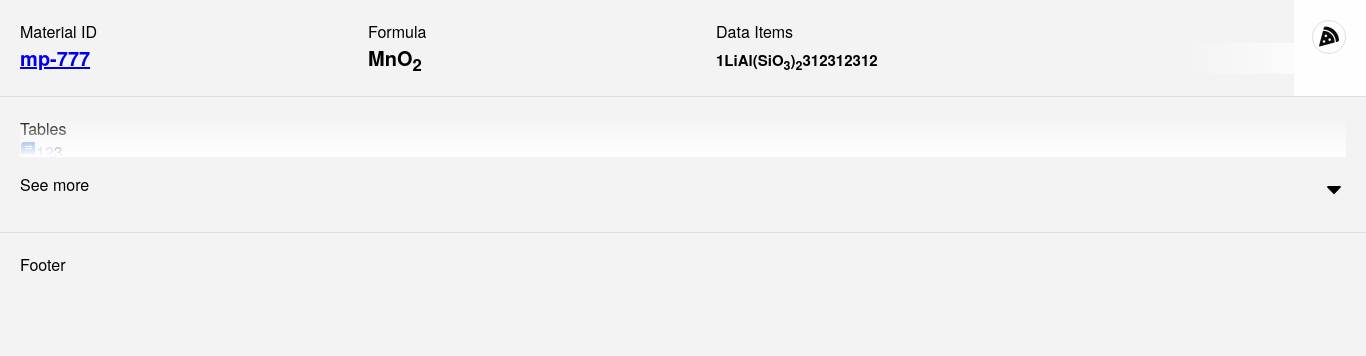
it: <DataBlock/> › should be expandable
Click the link "See more".
click(55, 184)  # box [20,173,89,196]
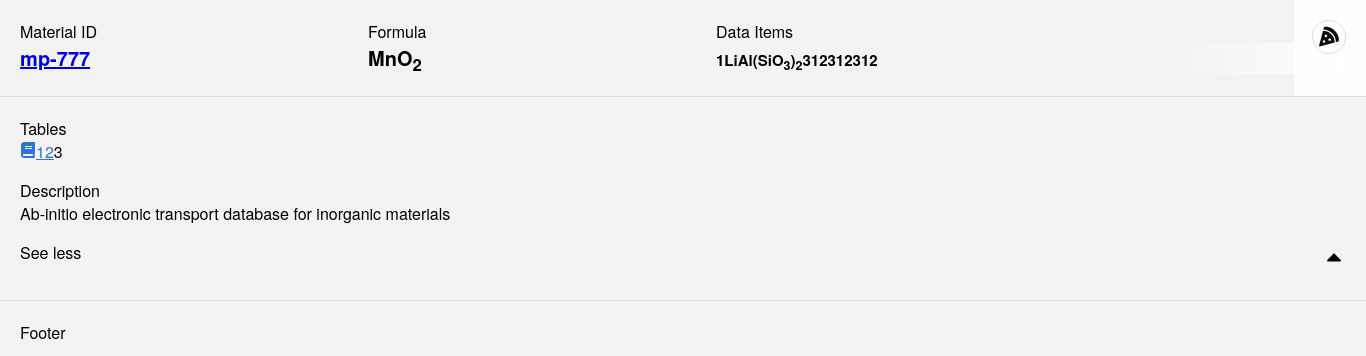
Check: the link "See less" is shown, box [20,241,81,264]
